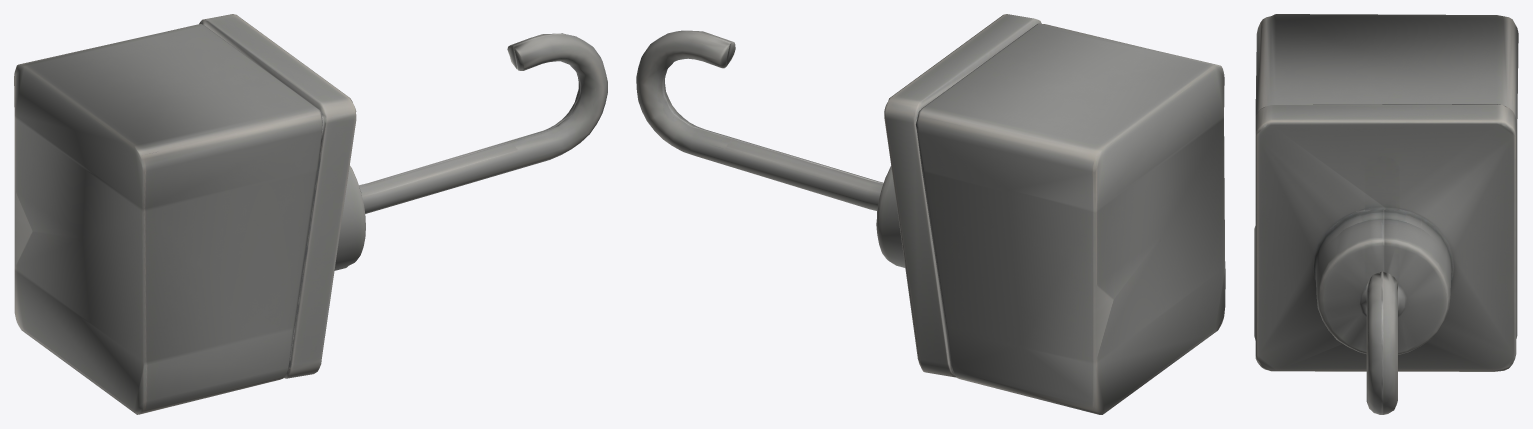
Rendered from PPE_B_WallHanger.fbx.
3 views of the same model, side by side, from view 1: azimuth 30°, elevation 25°; view 2: azimuth 150°, elevation 25°; view 3: azimuth 270°, elevation 25° (orthographic).
Parts seen in each view (by area): view 1: meshes[0]; view 2: meshes[0]; view 3: meshes[0].
Boxes of the visible parts, box(x1,y1,x2,y2) form: meshes[0]: box(14, 14, 607, 414); meshes[0]: box(636, 14, 1225, 414); meshes[0]: box(1254, 14, 1518, 414).
Bounding box in the file's own units: 0.998 × 0.4902 × 0.4316.
